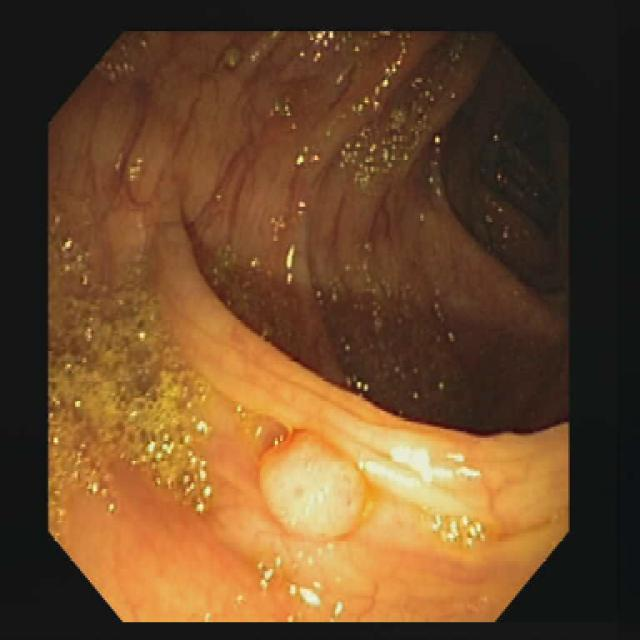tumor: (260, 429, 363, 538)
